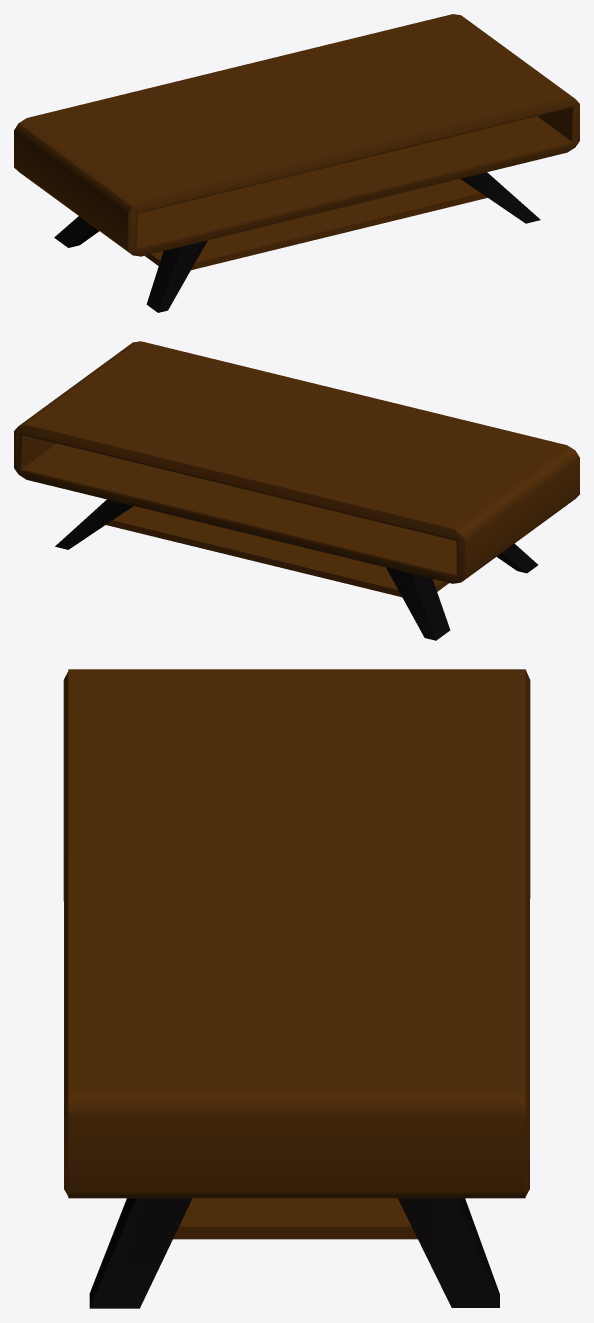
Rendered from coffeeTable.fbx.
The picture shows the model from 3 angles, top to bottom: view 1: azimuth 30°, elevation 25°; view 2: azimuth 150°, elevation 25°; view 3: azimuth 270°, elevation 25°; orthographic projection. The views are drawn at different scales.
Parts seen in each view (by area): view 1: coffeeTableTop1, coffeeTableTray, coffeeTableLegs1; view 2: coffeeTableTop1, coffeeTableTray, coffeeTableLegs1; view 3: coffeeTableTop1, coffeeTableLegs1, coffeeTableTray.
Part boxes in pixels (left/top/right/bottom): coffeeTableTop1: left=14, top=14, right=579, bottom=256; coffeeTableTray: left=145, top=179, right=487, bottom=270; coffeeTableLegs1: left=54, top=172, right=540, bottom=312; coffeeTableTop1: left=14, top=341, right=579, bottom=583; coffeeTableTray: left=106, top=506, right=448, bottom=597; coffeeTableLegs1: left=55, top=499, right=537, bottom=640; coffeeTableTop1: left=63, top=669, right=530, bottom=1198; coffeeTableLegs1: left=89, top=1198, right=499, bottom=1308; coffeeTableTray: left=173, top=1198, right=417, bottom=1239.
Size of the model in its own units: 177 by 45.4 by 79.24.
